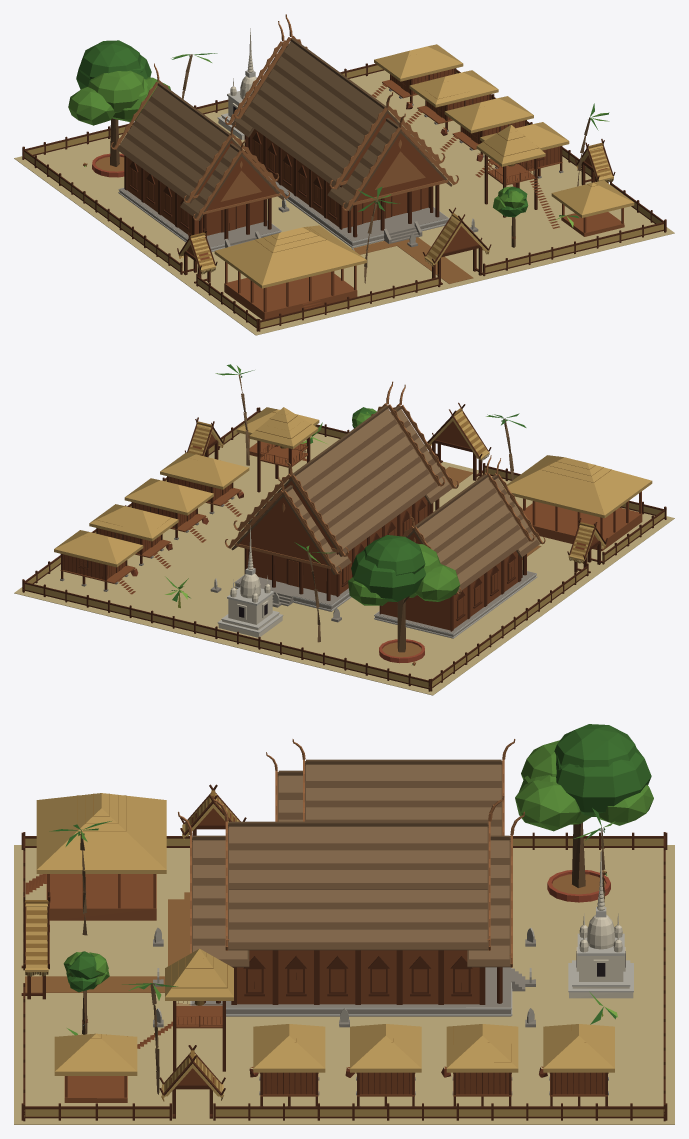
The model's file is temple_3.glb.
3 views of the same model, one above another, from view 1: azimuth 30°, elevation 25°; view 2: azimuth 150°, elevation 25°; view 3: azimuth 270°, elevation 25° (orthographic). The views are drawn at different scales.
Parts seen in each view (by area): view 1: body; view 2: body; view 3: body.
Part boxes in pixels (x1,y1,x2,y2): body: (14,14,674,335); body: (14,364,674,695); body: (14,724,674,1124).
Size of the model in its own units: 47.9 by 15.38 by 47.9.
